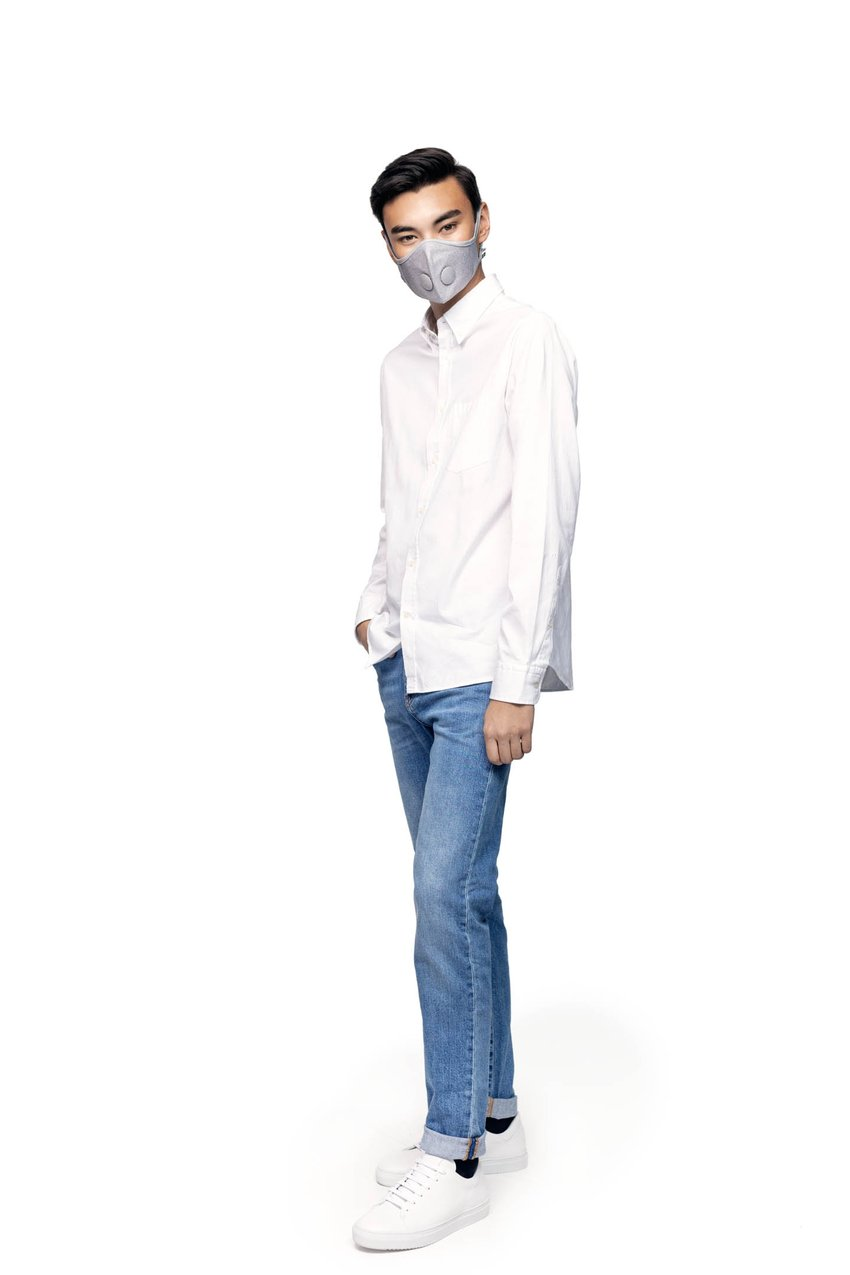with_mask: (364, 173, 519, 322)
